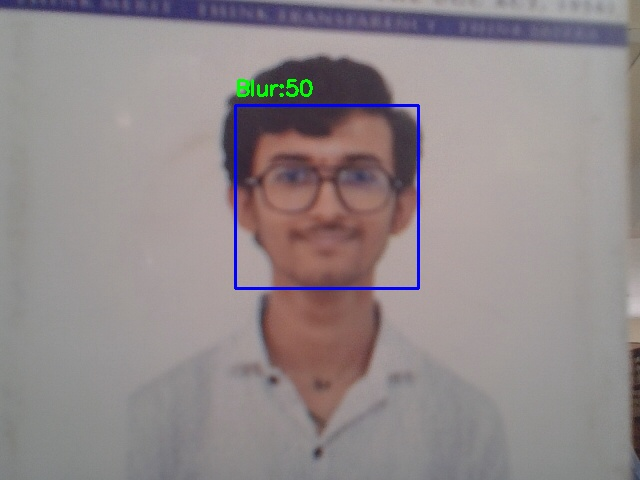fake: (235, 105, 418, 288)
